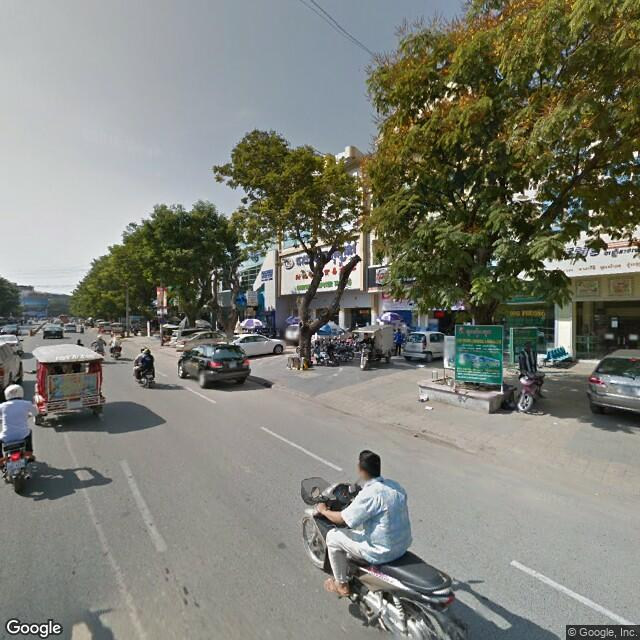litter: (415, 388, 432, 413)
